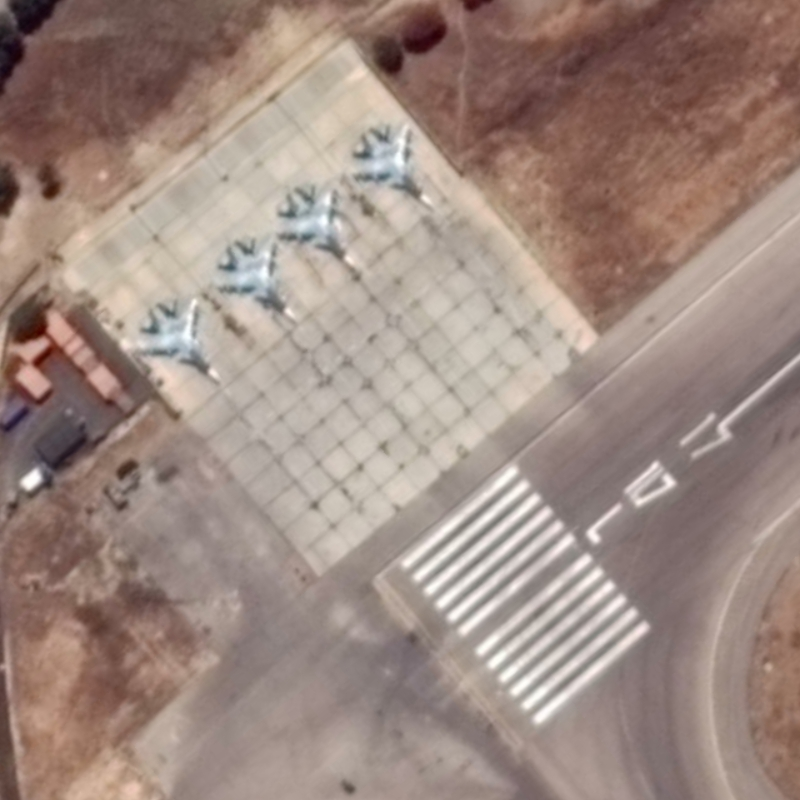A19: (133, 295, 224, 384), (211, 231, 298, 323), (273, 180, 359, 273), (347, 119, 436, 208)
